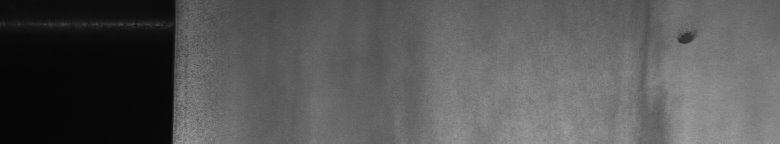fi: (672, 27, 699, 48)
